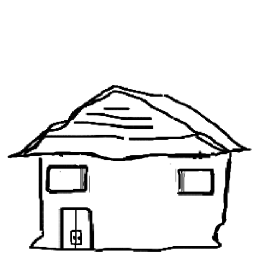bottom_placed_house: (1, 1, 260, 260)
door: (52, 203, 99, 256)
open_window: (42, 162, 100, 195), (170, 162, 219, 199)
roof: (2, 73, 257, 164)
wall: (20, 144, 234, 255)
